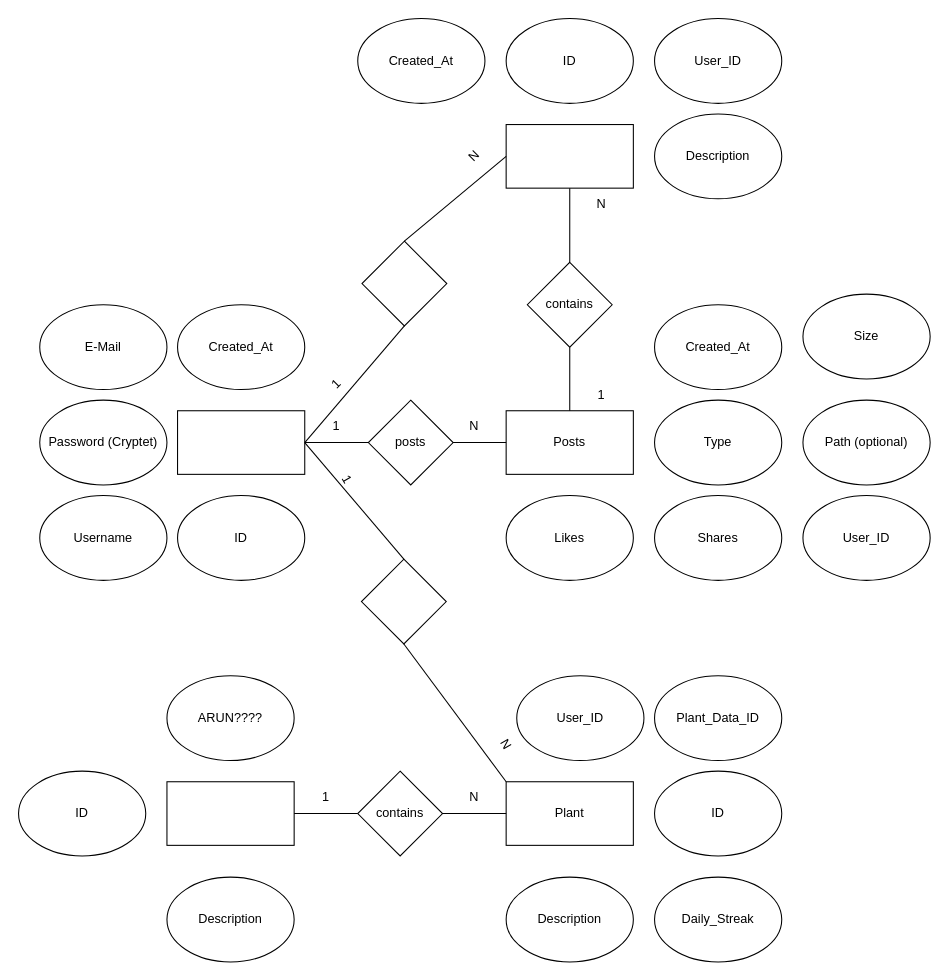
This 949x980 diagram has some shape labels left out. The shapes that lost their labels are listed below. From the top down, each one's centre as x and y in pixels, then its label:
At point (569, 155): "Comments".
At point (404, 283): "writes".
At point (240, 442): "User".
At point (403, 601): "has".
At point (230, 813): "Plant_Data".
